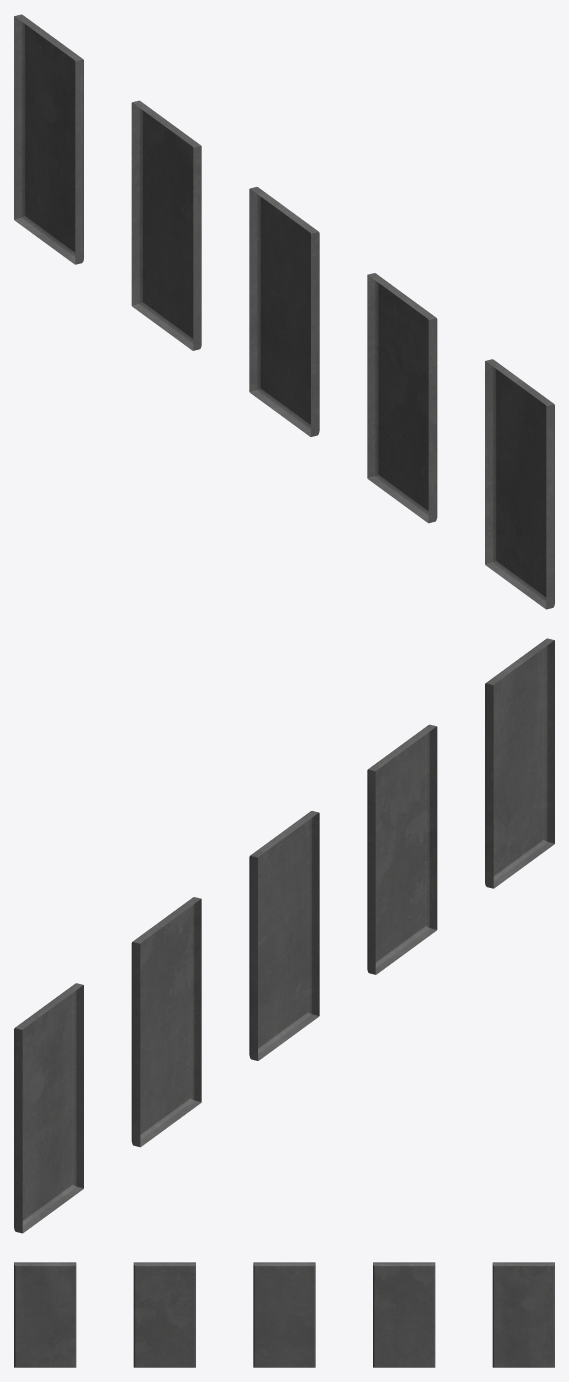
File: cP_Pathway03_SteppingStoneLong_Comb01.dae
The picture shows the model from 3 angles, top to bottom: view 1: azimuth 30°, elevation 25°; view 2: azimuth 150°, elevation 25°; view 3: azimuth 270°, elevation 25°; orthographic projection. The views are drawn at different scales.
Parts seen in each view (by area): view 1: cP_Pathway03_SteppingStoneLong_Comb01.001; view 2: cP_Pathway03_SteppingStoneLong_Comb01.001; view 3: cP_Pathway03_SteppingStoneLong_Comb01.001.
Boxes of the visible parts, <box> form: cP_Pathway03_SteppingStoneLong_Comb01.001: <box>14,14,554,609</box>; cP_Pathway03_SteppingStoneLong_Comb01.001: <box>14,638,554,1233</box>; cP_Pathway03_SteppingStoneLong_Comb01.001: <box>14,1262,554,1367</box>.
Bounding box in the file's own units: 0.0499 × 4.52 × 0.9566.
